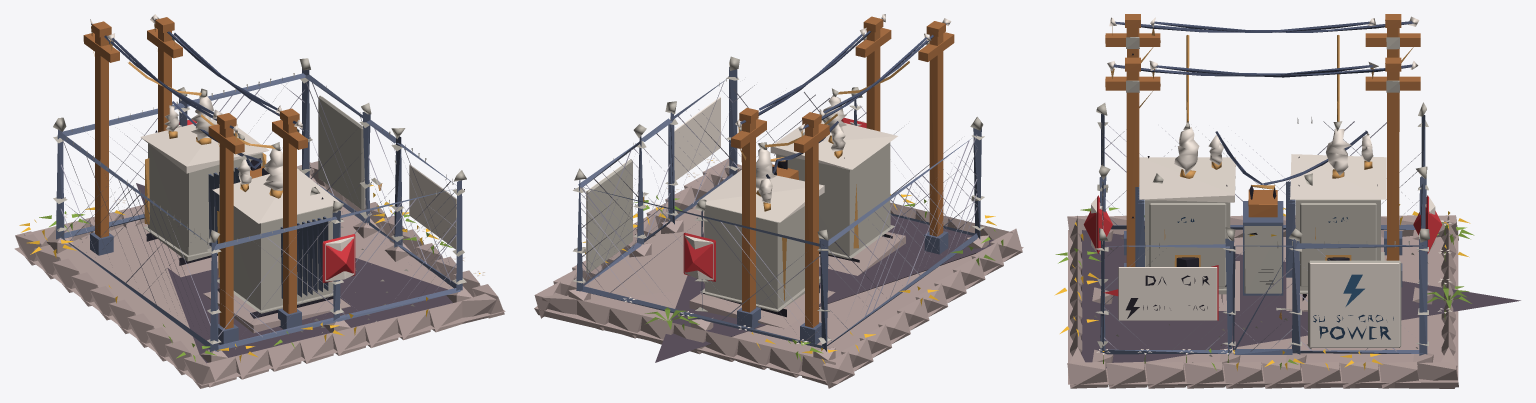
3 renders of one model, left to right at view 1: azimuth 30°, elevation 25°; view 2: azimuth 150°, elevation 25°; view 3: azimuth 270°, elevation 25°, orthographic. The views are drawn at different scales.
Visible parts, largest first — view 1: static_pal_sidewalk, static_pal_silver, static_pal_denimLight, static_pal_woodWarm, static_pal_picketWhite, static_pal_asphalt, static_pal_denimStitch, static_pal_denim, static_pal_brass, static_pal_survivorRed, static_pal_schoolBusYellow, static_pal_uiDark (+2 smaller); view 2: static_pal_sidewalk, static_pal_silver, static_pal_woodWarm, static_pal_picketWhite, static_pal_denimLight, static_pal_asphalt, static_pal_denimStitch, static_pal_denim, static_pal_survivorRed, static_pal_brass, gate_pal_denimLight, static_pal_schoolBusYellow (+1 smaller); view 3: static_pal_picketWhite, static_pal_sidewalk, static_pal_silver, static_pal_asphalt, static_pal_woodWarm, static_pal_denimLight, static_pal_denim, static_pal_survivorRed, static_pal_brass, gate_pal_denimLight, static_pal_uiDark, static_pal_denimStitch (+3 smaller).
Boxes of the visible parts, bbox=[...] form: static_pal_sidewalk: bbox=[14, 161, 505, 388]; static_pal_silver: bbox=[53, 37, 466, 349]; static_pal_denimLight: bbox=[56, 68, 462, 351]; static_pal_woodWarm: bbox=[83, 17, 307, 329]; static_pal_picketWhite: bbox=[55, 14, 485, 350]; static_pal_asphalt: bbox=[136, 183, 452, 363]; static_pal_denimStitch: bbox=[60, 82, 456, 337]; static_pal_denim: bbox=[91, 18, 296, 168]; static_pal_brass: bbox=[91, 24, 282, 277]; static_pal_survivorRed: bbox=[179, 119, 355, 282]; static_pal_schoolBusYellow: bbox=[19, 185, 480, 362]; static_pal_uiDark: bbox=[65, 130, 464, 318]; static_pal_sidewalk: bbox=[534, 158, 1023, 388]; static_pal_silver: bbox=[573, 37, 984, 344]; static_pal_woodWarm: bbox=[731, 16, 954, 327]; static_pal_picketWhite: bbox=[586, 14, 951, 344]; static_pal_denimLight: bbox=[576, 67, 981, 351]; static_pal_asphalt: bbox=[655, 176, 993, 362]; static_pal_denimStitch: bbox=[580, 81, 977, 341]; static_pal_denim: bbox=[740, 18, 946, 178]; static_pal_survivorRed: bbox=[683, 117, 866, 281]; static_pal_brass: bbox=[738, 61, 909, 300]; gate_pal_denimLight: bbox=[641, 118, 672, 242]; static_pal_schoolBusYellow: bbox=[582, 160, 996, 364]; static_pal_picketWhite: bbox=[1091, 16, 1451, 356]; static_pal_sidewalk: bbox=[1067, 215, 1458, 388]; static_pal_silver: bbox=[1092, 37, 1429, 362]; static_pal_asphalt: bbox=[1081, 230, 1520, 368]; static_pal_woodWarm: bbox=[1105, 14, 1420, 266]; static_pal_denimLight: bbox=[1099, 114, 1427, 355]; static_pal_denim: bbox=[1113, 21, 1413, 185]; static_pal_survivorRed: bbox=[1083, 195, 1442, 320]; static_pal_brass: bbox=[1110, 26, 1413, 266]; gate_pal_denimLight: bbox=[1232, 245, 1293, 354]; static_pal_uiDark: bbox=[1102, 53, 1377, 346]; static_pal_denimStitch: bbox=[1102, 121, 1421, 351].
Size of the model in its own units: 6.67 by 4.55 by 7.79.
